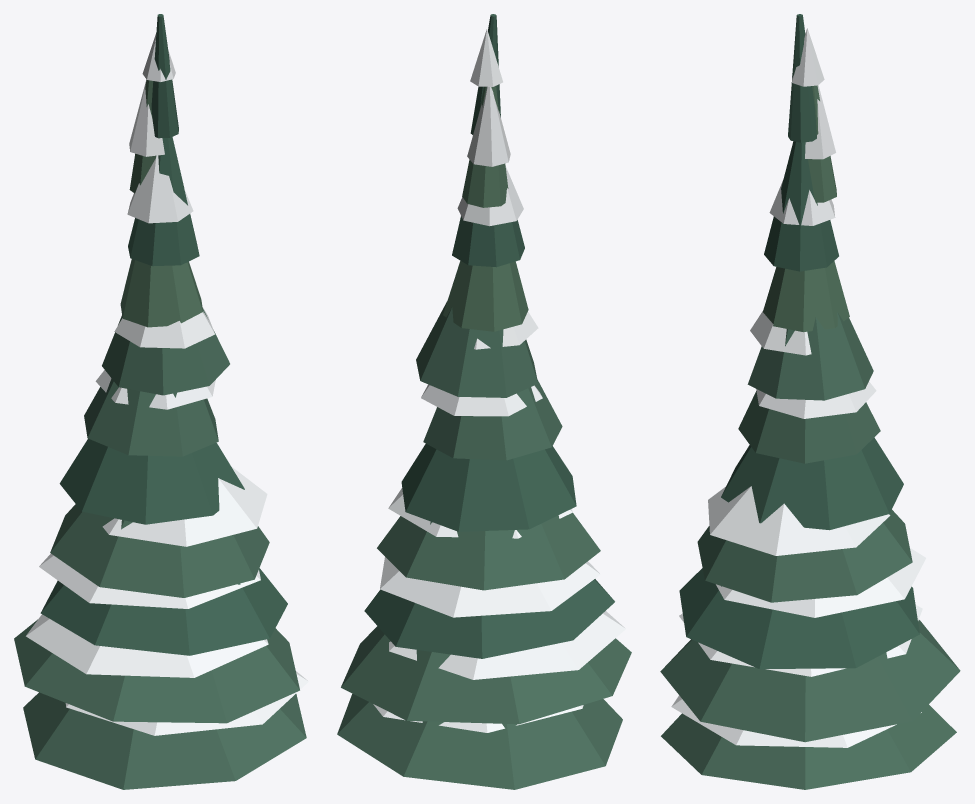
File: NorwaySpruce.glb
The picture shows the model from 3 angles, left to right: view 1: azimuth 30°, elevation 25°; view 2: azimuth 150°, elevation 25°; view 3: azimuth 270°, elevation 25°; orthographic projection.
Visible parts, largest first — view 1: Spruce whorl, Spruce whorl.001, Spruce whorl.003, Spruce whorl.002, Spruce whorl.004, Spruce whorl.005, Snow load.001, Spruce whorl.006, Snow load.003, Spruce whorl.007, Spruce whorl.008, Snow load.002 (+8 smaller); view 2: Spruce whorl, Spruce whorl.001, Spruce whorl.004, Spruce whorl.003, Spruce whorl.002, Spruce whorl.006, Spruce whorl.005, Snow load.002, Snow load.001, Spruce whorl.007, Spruce whorl.008, Snow load.007 (+8 smaller); view 3: Spruce whorl.001, Spruce whorl.002, Spruce whorl, Spruce whorl.003, Spruce whorl.004, Spruce whorl.006, Spruce whorl.005, Snow load.003, Spruce whorl.008, Spruce whorl.007, Snow load.002, Snow load (+8 smaller).
Boxes of the visible parts, x1,y1,x2,y2 form: Spruce whorl: (23, 692, 306, 789); Spruce whorl.001: (14, 619, 299, 723); Spruce whorl.003: (50, 504, 269, 597); Spruce whorl.002: (40, 568, 287, 655); Spruce whorl.004: (59, 438, 244, 524); Spruce whorl.005: (84, 378, 218, 456); Snow load.001: (26, 614, 268, 677); Spruce whorl.006: (102, 308, 229, 395); Snow load.003: (102, 466, 267, 546); Spruce whorl.007: (120, 259, 203, 327); Spruce whorl.008: (128, 137, 199, 266); Snow load.002: (39, 554, 260, 608); Spruce whorl: (337, 693, 622, 789); Spruce whorl.001: (341, 626, 631, 724); Spruce whorl.004: (401, 444, 576, 531); Spruce whorl.003: (377, 512, 600, 590); Spruce whorl.002: (364, 579, 614, 658); Spruce whorl.006: (416, 301, 537, 397); Spruce whorl.005: (423, 379, 562, 460); Snow load.002: (380, 557, 600, 617); Snow load.001: (389, 611, 625, 679); Spruce whorl.007: (443, 261, 528, 331); Spruce whorl.008: (452, 216, 524, 267); Snow load.007: (467, 86, 510, 166); Spruce whorl.001: (660, 620, 960, 742); Spruce whorl.002: (679, 568, 919, 669); Spruce whorl: (661, 704, 956, 789); Spruce whorl.003: (697, 509, 912, 602); Spruce whorl.004: (721, 437, 903, 530); Spruce whorl.006: (747, 312, 873, 400); Spruce whorl.005: (738, 391, 880, 463); Snow load.003: (708, 486, 890, 555); Spruce whorl.008: (764, 141, 838, 271); Spruce whorl.007: (763, 261, 849, 332); Snow load.002: (716, 548, 925, 617); Snow load: (671, 695, 921, 747).
Bounding box in the file's own units: 3.91 × 10.5 × 3.84.
